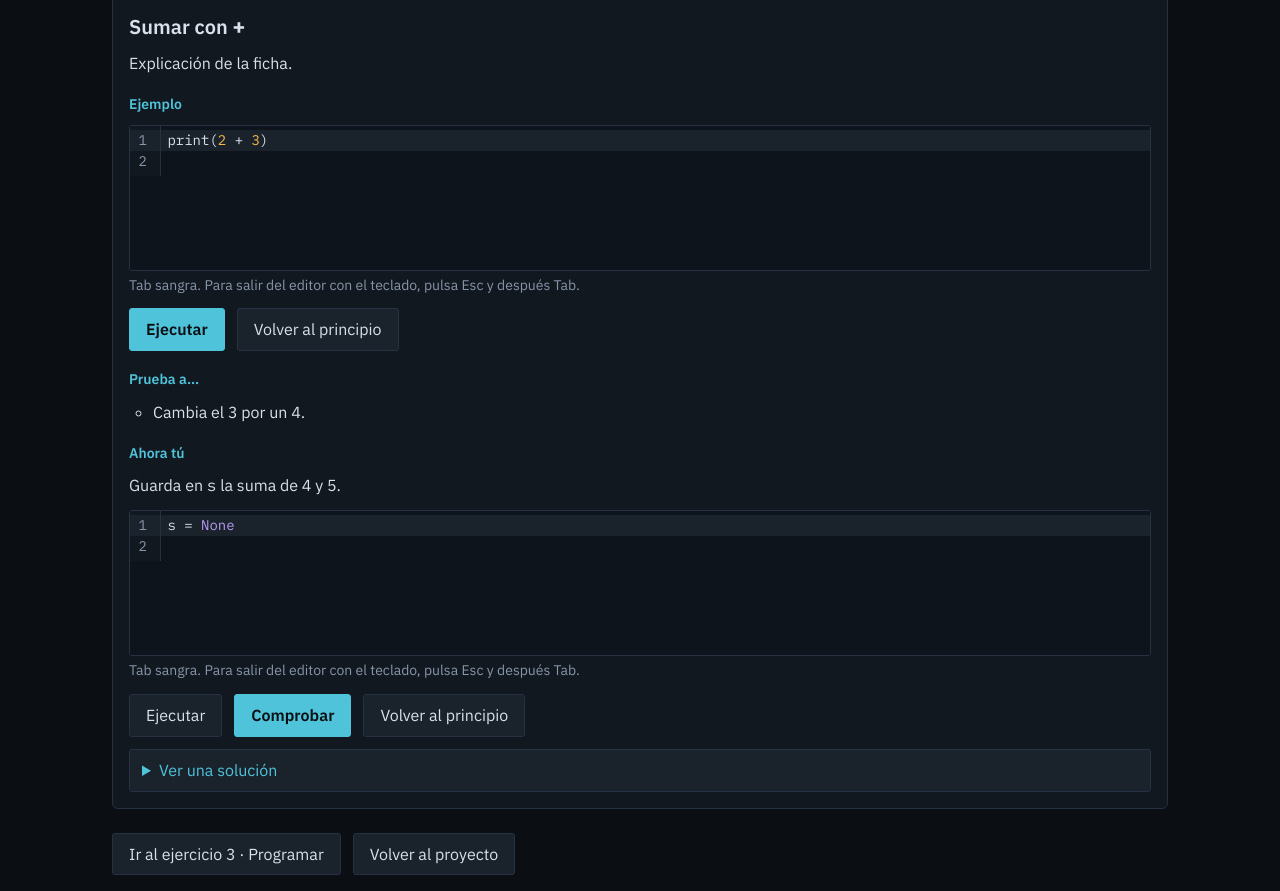
Scenario: Pantalla del calentamiento › «Comprobar» pasa las comprobaciones del reto y celebra el acierto
(page scrolled)
What coordinates should you click on to do the following:
click the button "Comprobar"
I would click on:
 (293, 715)
Its box is x1=234 y1=694 x2=351 y2=737.
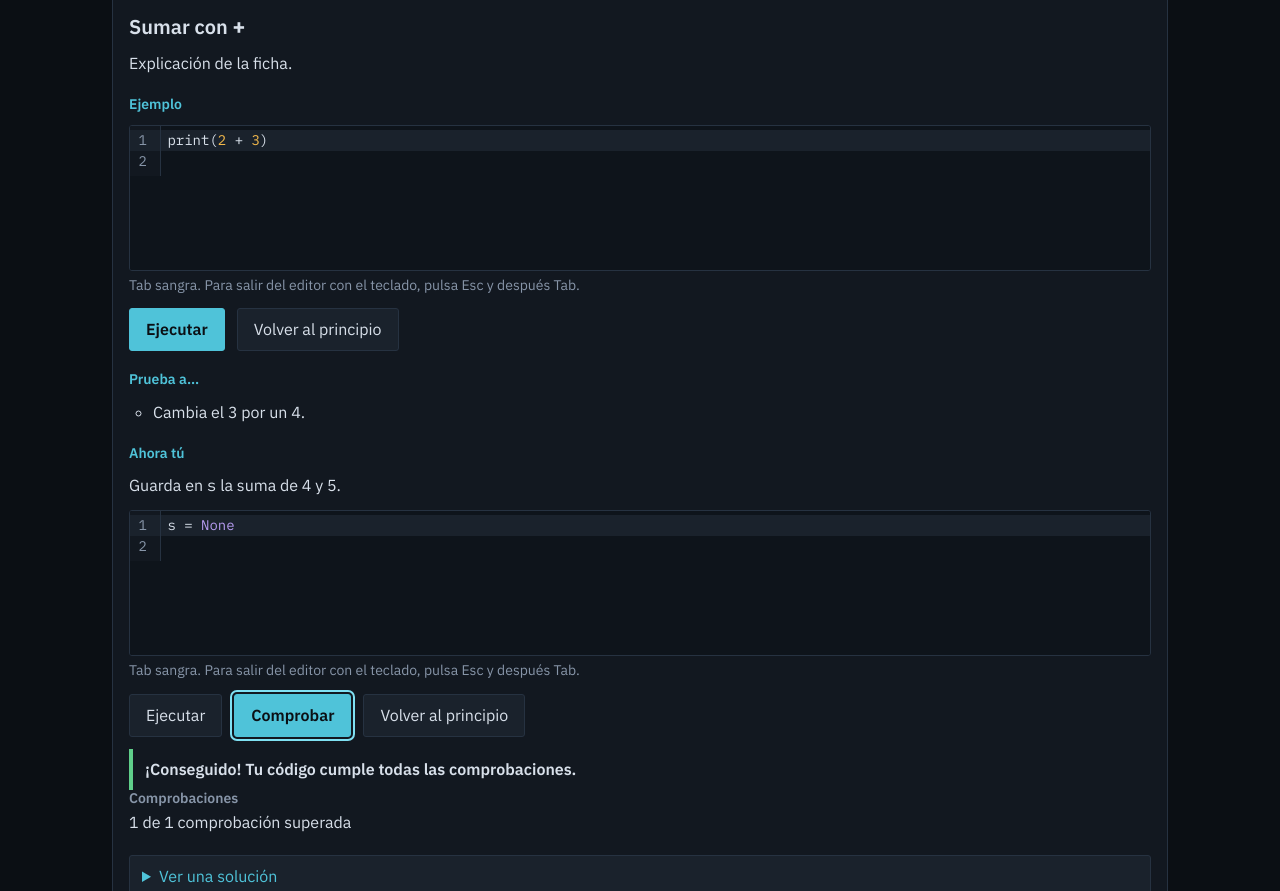
Result: the text "¡Conseguido! Tu código cumple todas las comprobaciones." is shown at x1=129 y1=749 x2=1151 y2=790
